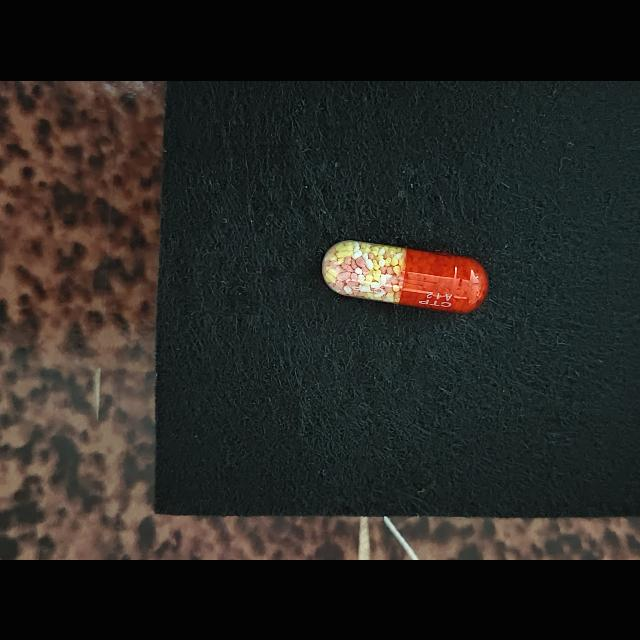Intact Capsule: (322, 240, 488, 312)
